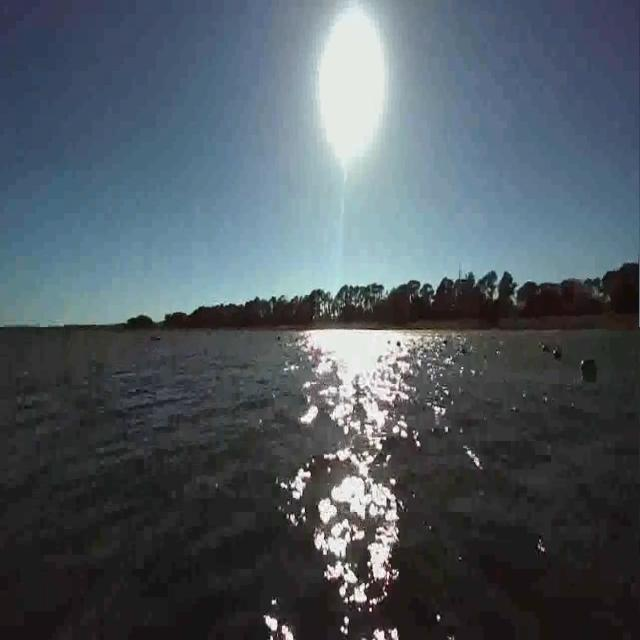black-buoy: (582, 357, 598, 380)
